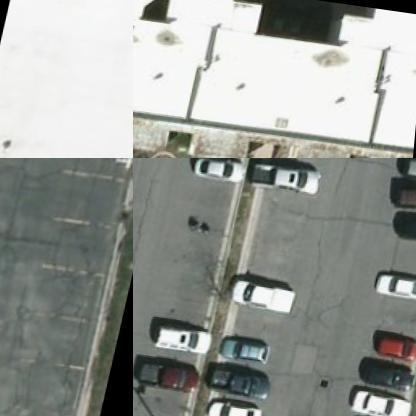car: (235, 273, 306, 311), (152, 316, 223, 354), (144, 352, 215, 390), (213, 362, 284, 400), (257, 160, 327, 192), (366, 352, 415, 389), (361, 383, 415, 415), (228, 330, 280, 362), (212, 391, 273, 415), (195, 158, 251, 181), (380, 268, 415, 297), (382, 328, 415, 357), (138, 407, 200, 415), (399, 210, 415, 239)
